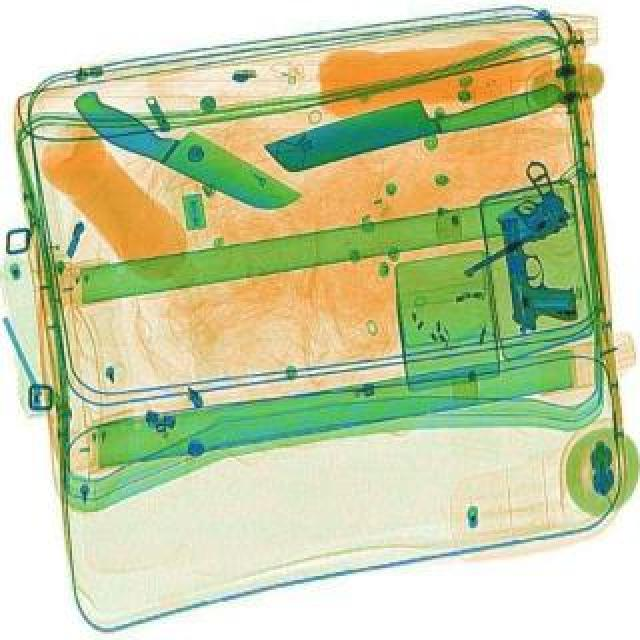gun: (428, 158, 584, 286), (490, 210, 582, 342)
knife: (64, 80, 312, 232), (260, 72, 570, 182)
